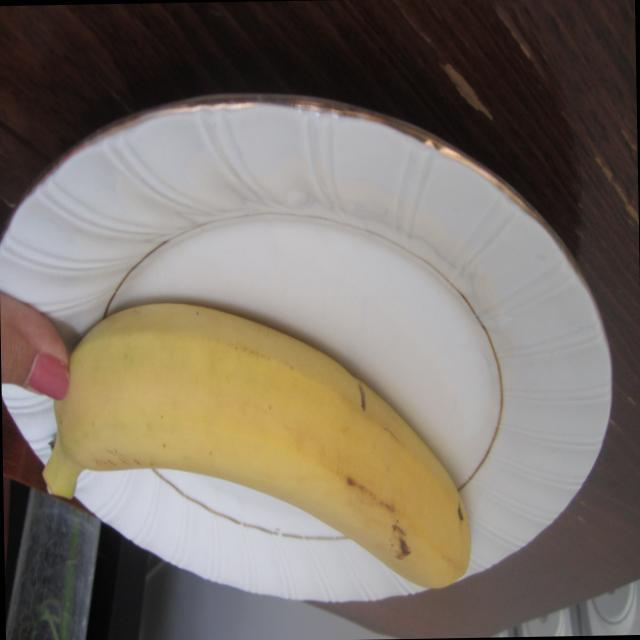Banana: (39, 284, 497, 602)
Finger: (0, 280, 72, 414)
